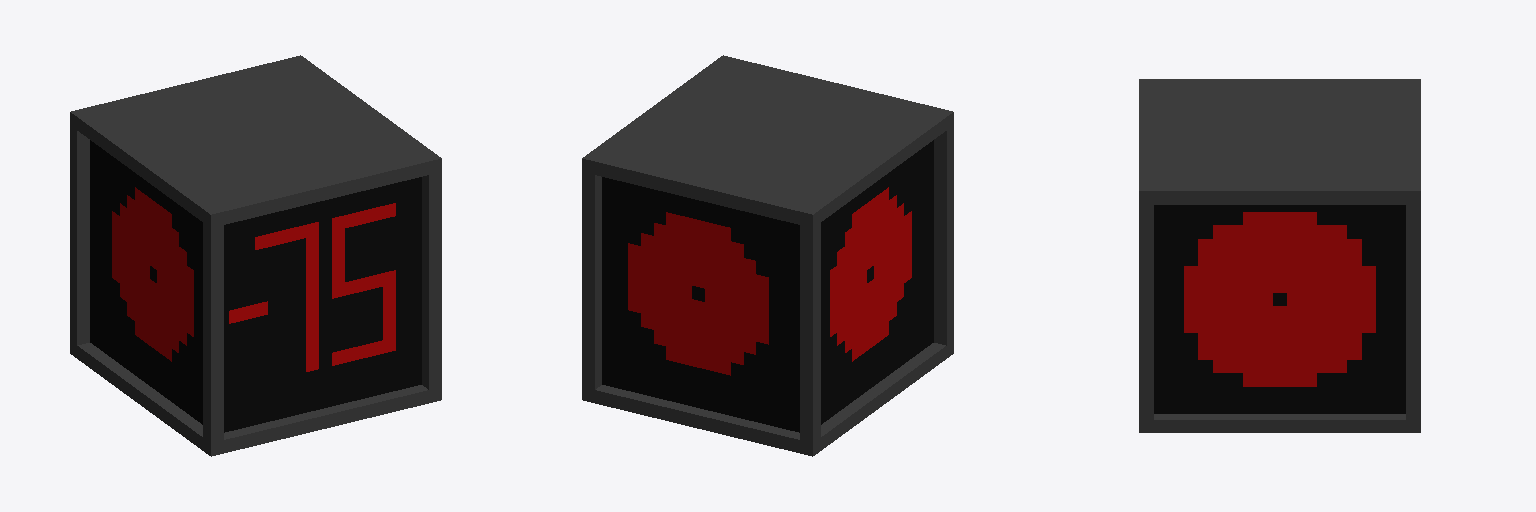
3 renders of one model, left to right at view 1: azimuth 30°, elevation 25°; view 2: azimuth 150°, elevation 25°; view 3: azimuth 270°, elevation 25°, orthographic.
Visible parts, largest first — view 1: minus75; view 2: minus75; view 3: minus75.
Boxes of the visible parts, x1,y1,x2,y2 form: minus75: [70, 55, 441, 456]; minus75: [582, 55, 953, 456]; minus75: [1139, 79, 1420, 432].
Bounding box in the file's own units: 18 × 18 × 19.
Materials: 1 (1 with a texture image).